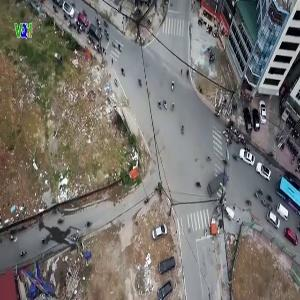drone: (14, 196, 103, 285)
